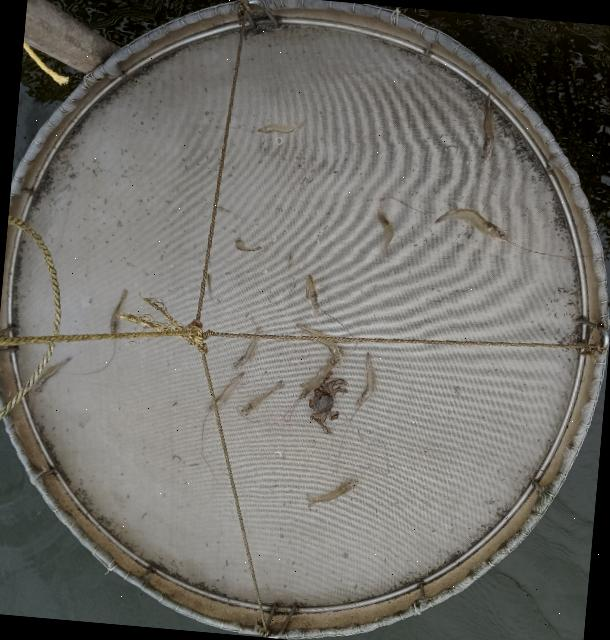shrimp: (298, 329, 343, 401), (434, 209, 508, 243), (306, 476, 359, 508), (237, 380, 284, 416), (29, 357, 70, 393), (355, 352, 377, 411), (233, 326, 261, 368), (213, 372, 244, 409), (377, 196, 393, 255), (481, 95, 494, 164), (109, 289, 127, 333), (257, 119, 305, 134), (305, 275, 320, 316), (234, 237, 261, 252), (295, 323, 320, 338), (216, 206, 240, 220), (205, 273, 211, 294), (337, 379, 346, 392), (287, 252, 293, 268), (207, 404, 211, 411)
